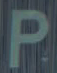Parking: (4, 5, 50, 64)
